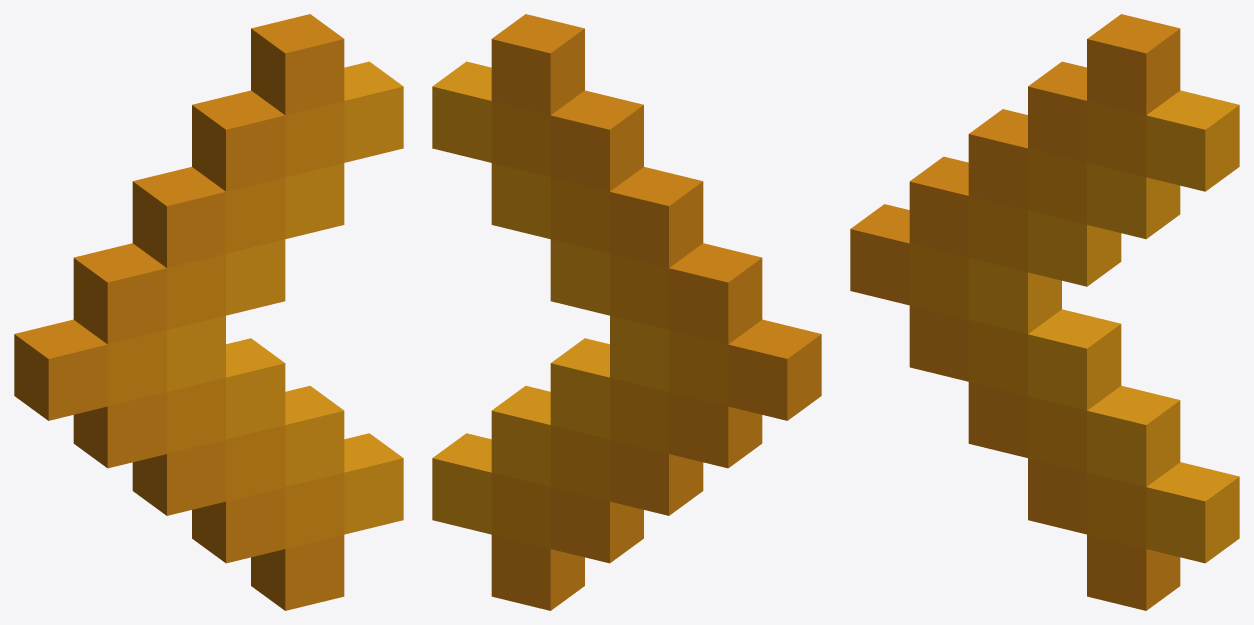
File: bar-6.obj
3 views of the same model, side by side, from view 1: azimuth 30°, elevation 25°; view 2: azimuth 150°, elevation 25°; view 3: azimuth 330°, elevation 25° (orthographic).
Bounding box in the file's own units: 0.6 × 0.9 × 0.1.
Materials: 1 (1 with a texture image).
